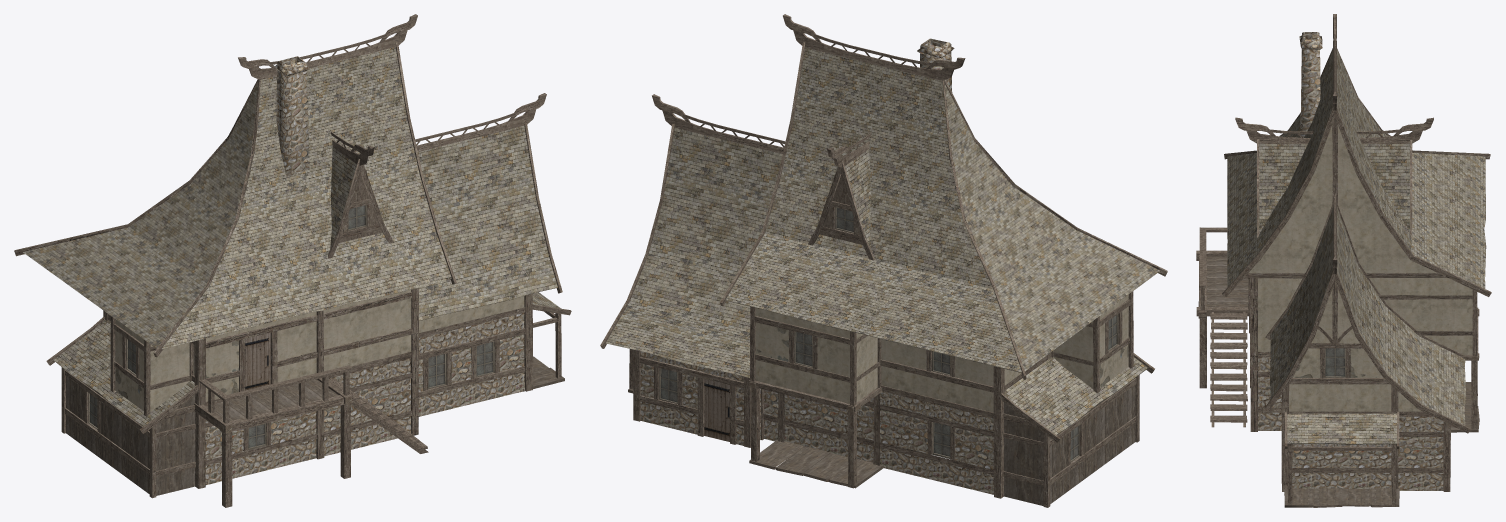
Rendered from mw_type_2_cottage_04_LOD1.FBX.
3 renders of one model, left to right at view 1: azimuth 30°, elevation 25°; view 2: azimuth 150°, elevation 25°; view 3: azimuth 270°, elevation 25°, orthographic. The views are drawn at different scales.
Visible parts, largest first — view 1: mw_type_2_cottage_building_04_roof, mw_type_2_cottage_building_04_wood, mw_type_2_cottage_building_04_stone, mw_type_2_cottage_building_04_wall001, mw_type_2_cottage_building_04; view 2: mw_type_2_cottage_building_04_roof, mw_type_2_cottage_building_04_wood, mw_type_2_cottage_building_04_stone, mw_type_2_cottage_building_04_wall001, mw_type_2_cottage_building_04, mw_type_2_cottage_building_04_wood_02; view 3: mw_type_2_cottage_building_04_roof, mw_type_2_cottage_building_04_wood, mw_type_2_cottage_building_04_wall001, mw_type_2_cottage_building_04_stone, mw_type_2_cottage_building_04_wood_02, mw_type_2_cottage_building_04.
Part boxes in pixels (left/top/right/bottom): mw_type_2_cottage_building_04_roof: left=23, top=47, right=560, bottom=426; mw_type_2_cottage_building_04_wood: left=14, top=14, right=571, bottom=507; mw_type_2_cottage_building_04_stone: left=205, top=56, right=524, bottom=484; mw_type_2_cottage_building_04_wall001: left=115, top=290, right=524, bottom=411; mw_type_2_cottage_building_04: left=88, top=205, right=494, bottom=450; mw_type_2_cottage_building_04_roof: left=606, top=47, right=1159, bottom=434; mw_type_2_cottage_building_04_wood: left=600, top=14, right=1167, bottom=507; mw_type_2_cottage_building_04_stone: left=640, top=38, right=993, bottom=494; mw_type_2_cottage_building_04_wall001: left=755, top=295, right=1128, bottom=412; mw_type_2_cottage_building_04: left=659, top=207, right=1118, bottom=462; mw_type_2_cottage_building_04_wood_02: left=628, top=388, right=883, bottom=488; mw_type_2_cottage_building_04_roof: left=1227, top=50, right=1486, bottom=444; mw_type_2_cottage_building_04_wood: left=1196, top=14, right=1491, bottom=506; mw_type_2_cottage_building_04_wall001: left=1248, top=125, right=1472, bottom=411; mw_type_2_cottage_building_04_stone: left=1258, top=32, right=1443, bottom=490; mw_type_2_cottage_building_04_wood_02: left=1284, top=382, right=1479, bottom=507; mw_type_2_cottage_building_04: left=1325, top=348, right=1345, bottom=377.
Size of the model in its own units: 2226 by 1782 by 1339.
